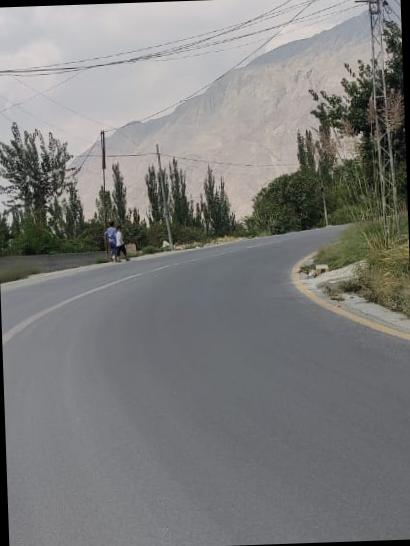right_turn: (0, 171, 410, 362)
